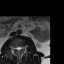CCS_normal: (18, 45, 19, 53)
LFS_normal: (22, 45, 23, 50)
LLS_normal: (19, 45, 21, 51)
RFS_normal: (13, 46, 15, 51)
RLS_normal: (15, 45, 18, 51)
